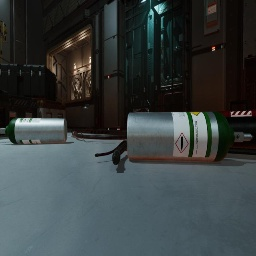0: (127, 112, 253, 162), (0, 118, 67, 144)
FirstAidBox ,: (216, 100, 256, 117)
SafetySwitchPanel ,: (204, 0, 221, 37)
